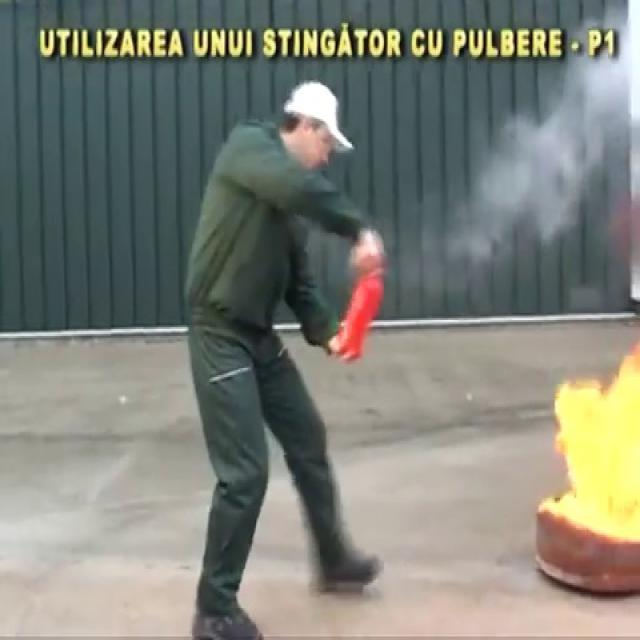Fire: (541, 303, 640, 557)
Smoke: (454, 65, 638, 271)
